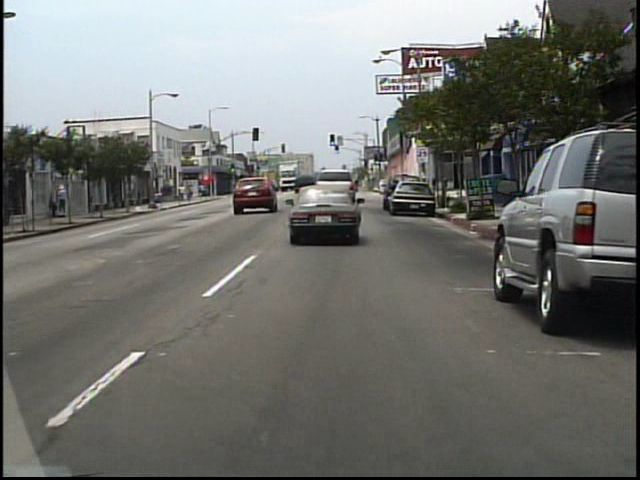person: (59, 183, 71, 217), (180, 184, 187, 202), (188, 183, 194, 202)
